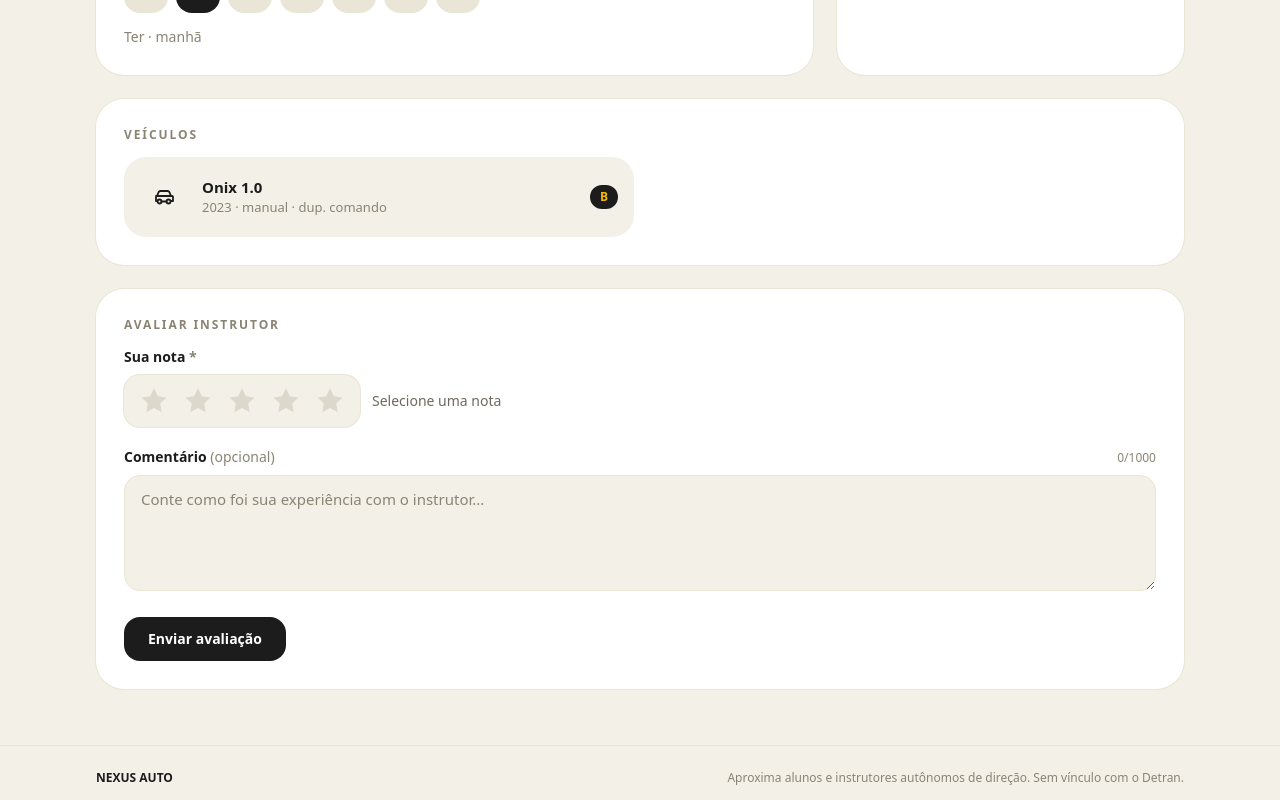
Scenario: BL05.1 · ReviewSection › integra com InstrutorPerfilPage e atualiza o RatingSummary após enviar avaliação
The image size is (1280, 800).
(page scrolled)
Check: the heading "Avaliar instrutor" is shown, box [124,316,280,333]
Click the radio button named "5 estrelas".
click(330, 401)  # box [310,381,350,421]
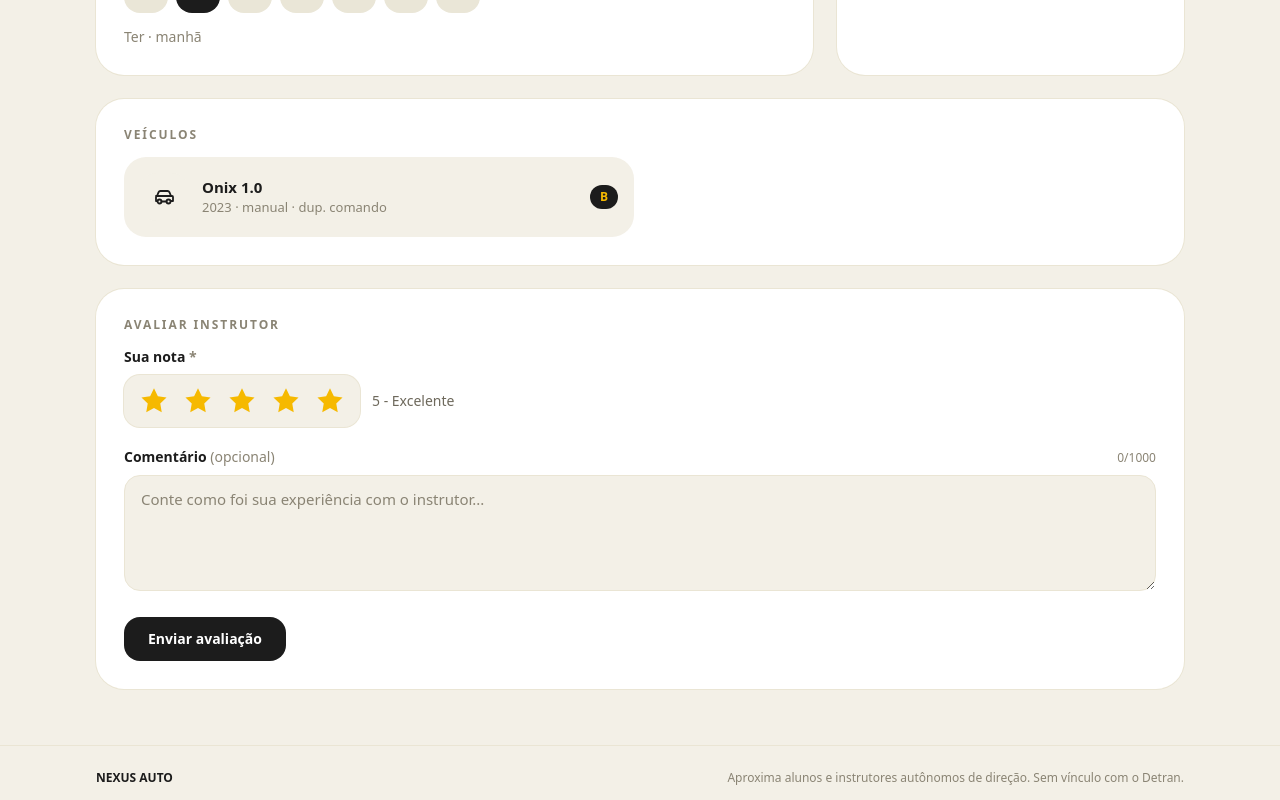
Type "Top!" into the text box labelled "Comentário (opcional)".
click(640, 533); type("Top!")  # box [124,475,1156,591]
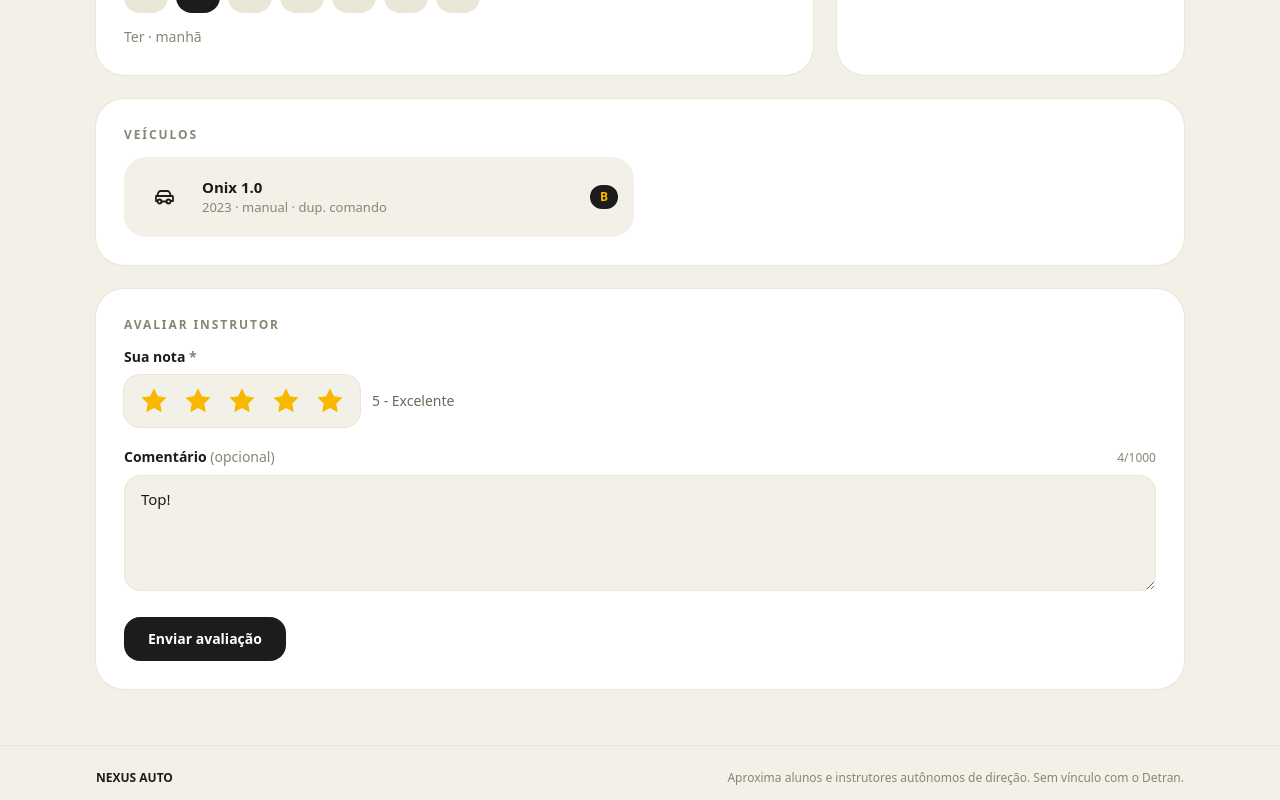
Click the button "Enviar avaliação".
click(205, 639)  # box [124,617,286,661]
(page scrolled)
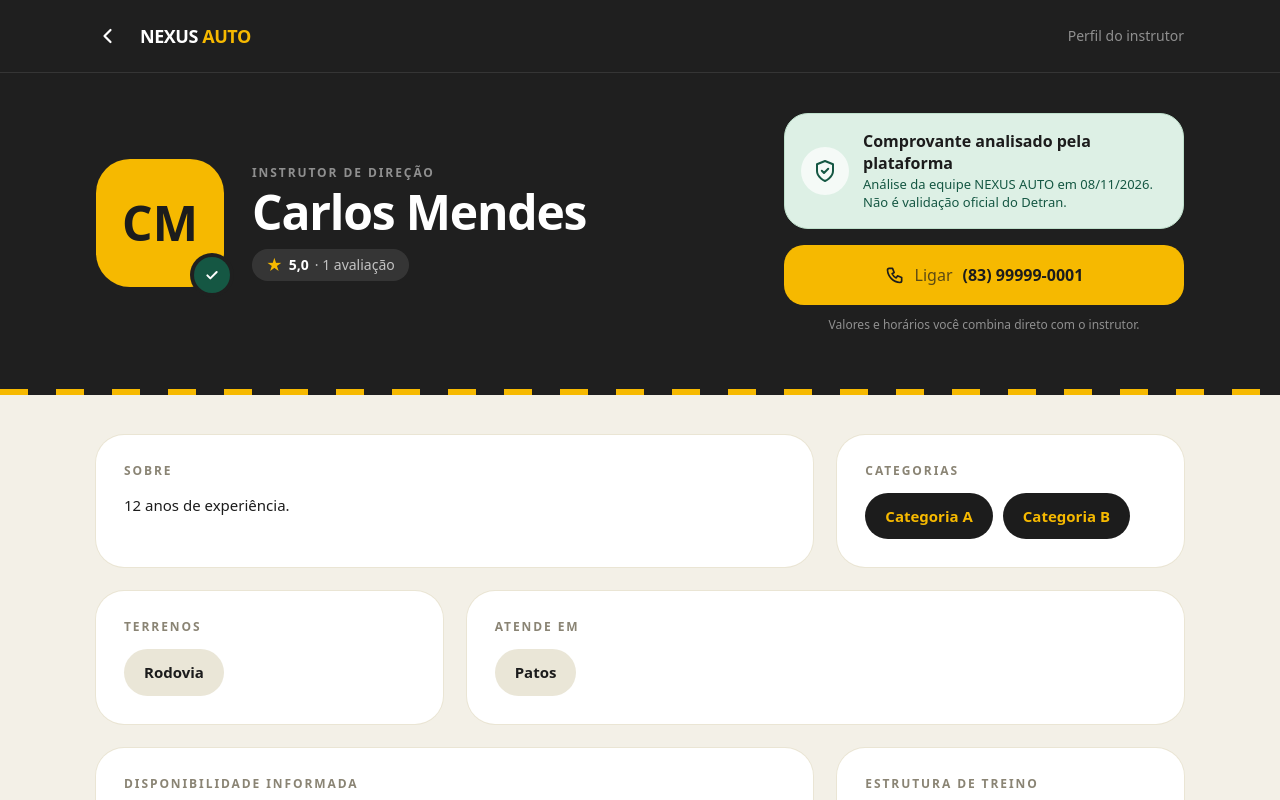
Check: the text "5,0" is shown, box [289,255,309,275]
Check: the text "· 1 avaliação" is shown, box [315,255,395,275]
